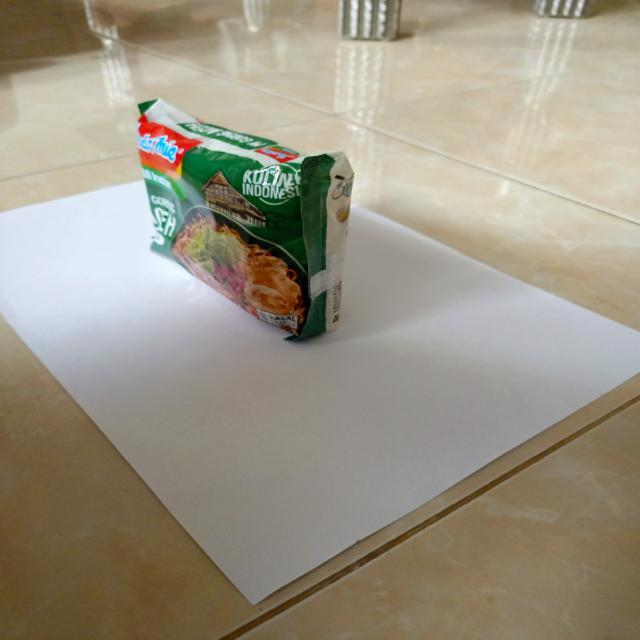gery-salut-coconut: (133, 96, 354, 344)
